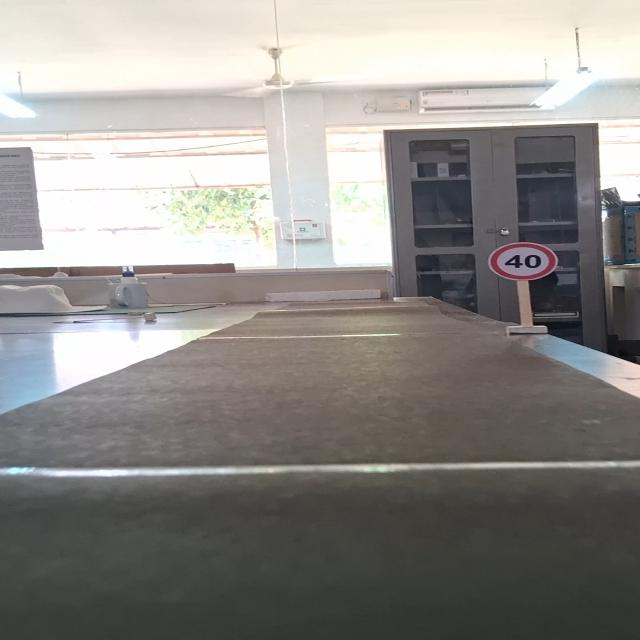Speed40: (489, 241, 559, 282)
